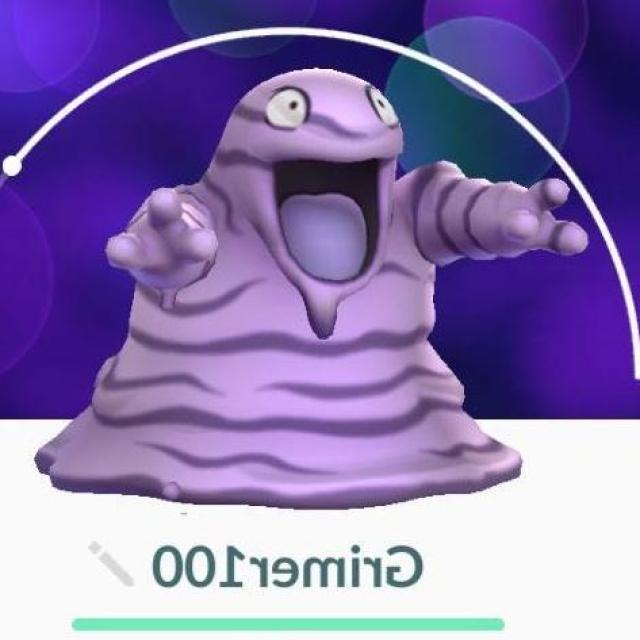Grimer: (103, 65, 502, 469)
